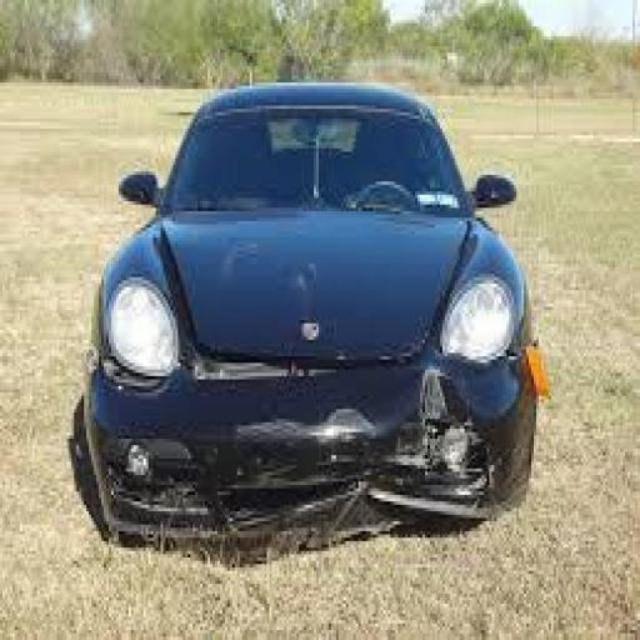dislocated part: (83, 221, 548, 543)
